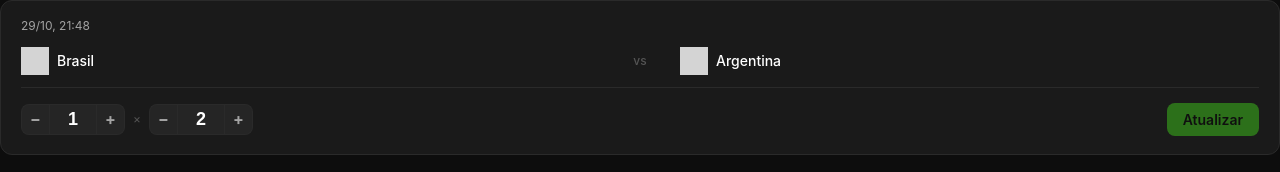
Test: MatchCard – hasChanged / canSave › enables save when the user changes at least one field (hasChanged = true)
The width and height of the screenshot is (1280, 172).
Note: Increase home score from 1 to 2 — now differs from prediction (1×2)
Click the button named "Aumentar placar Brasil": [111, 119] box [97,104,125,134]
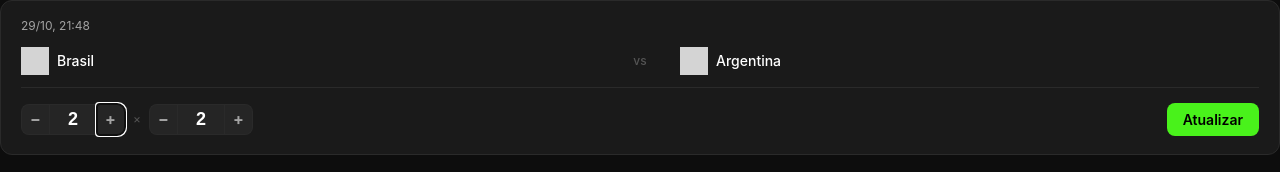
Expected: the button "Atualizar" is enabled, [1167,102,1259,136]
